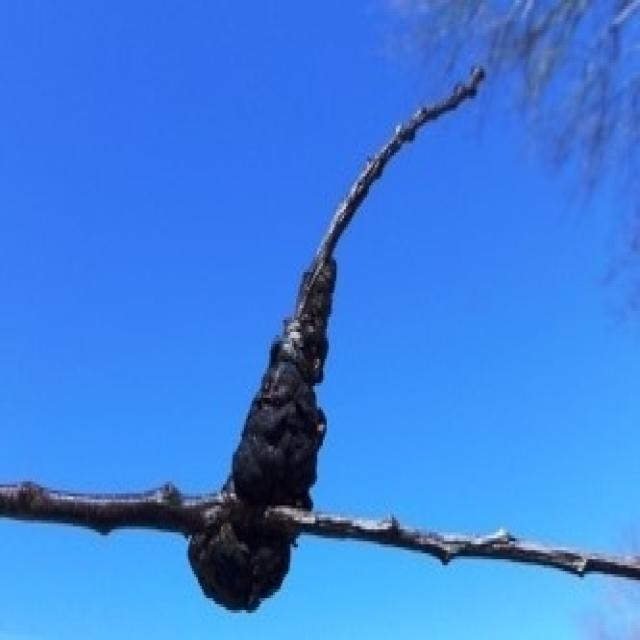Black_knot: (0, 57, 638, 619)
